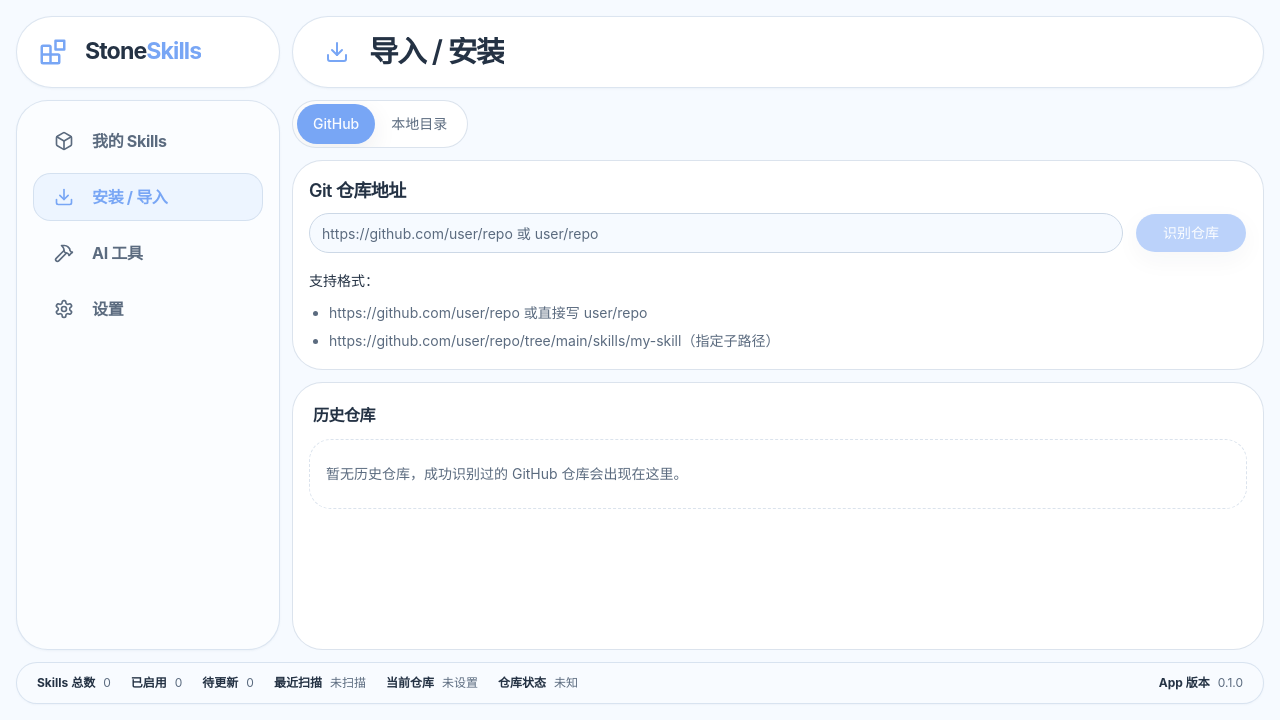
Test: InstallPage › 切换到本地目录时不会渲染 GitHub 结果态组件
Type "https://github.com/example/skills" into the field with placeholder "https://github.com/user/repo 或 user/repo".
click(716, 233); type("https://github.com/example/skills")  # box [309,213,1123,253]
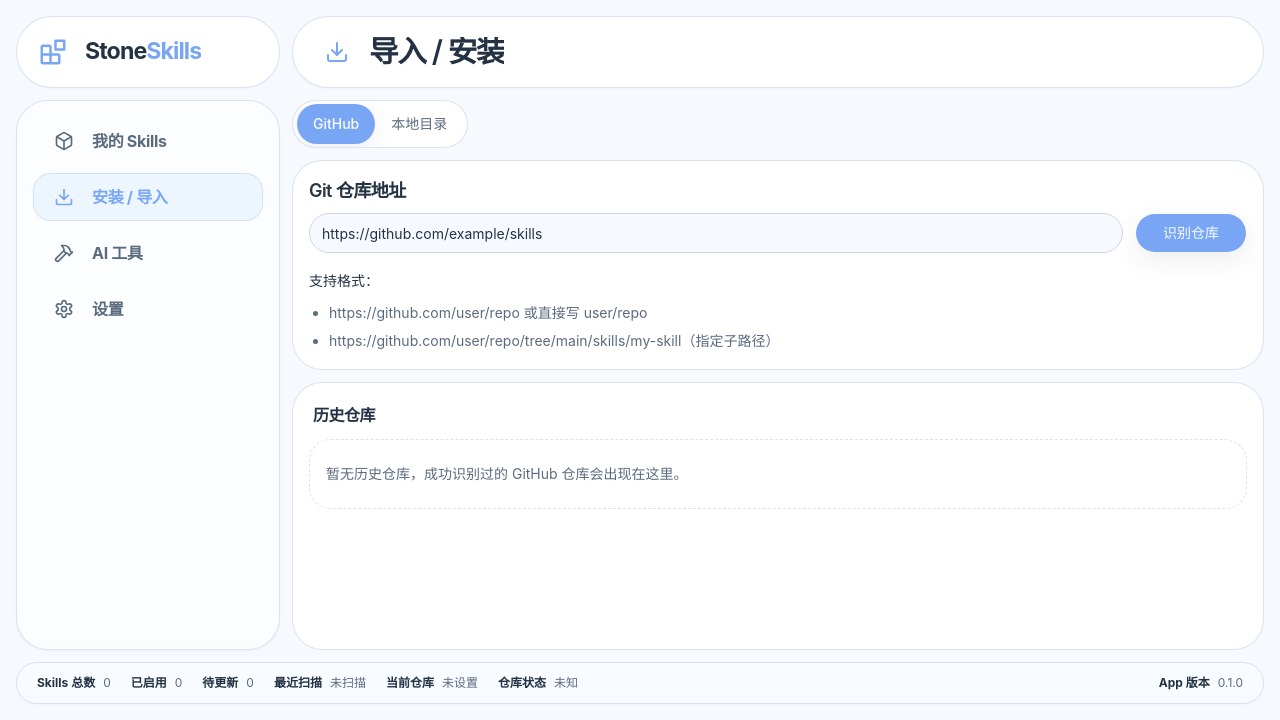
Click the button "识别仓库".
click(1191, 233)  # box [1135,213,1247,253]
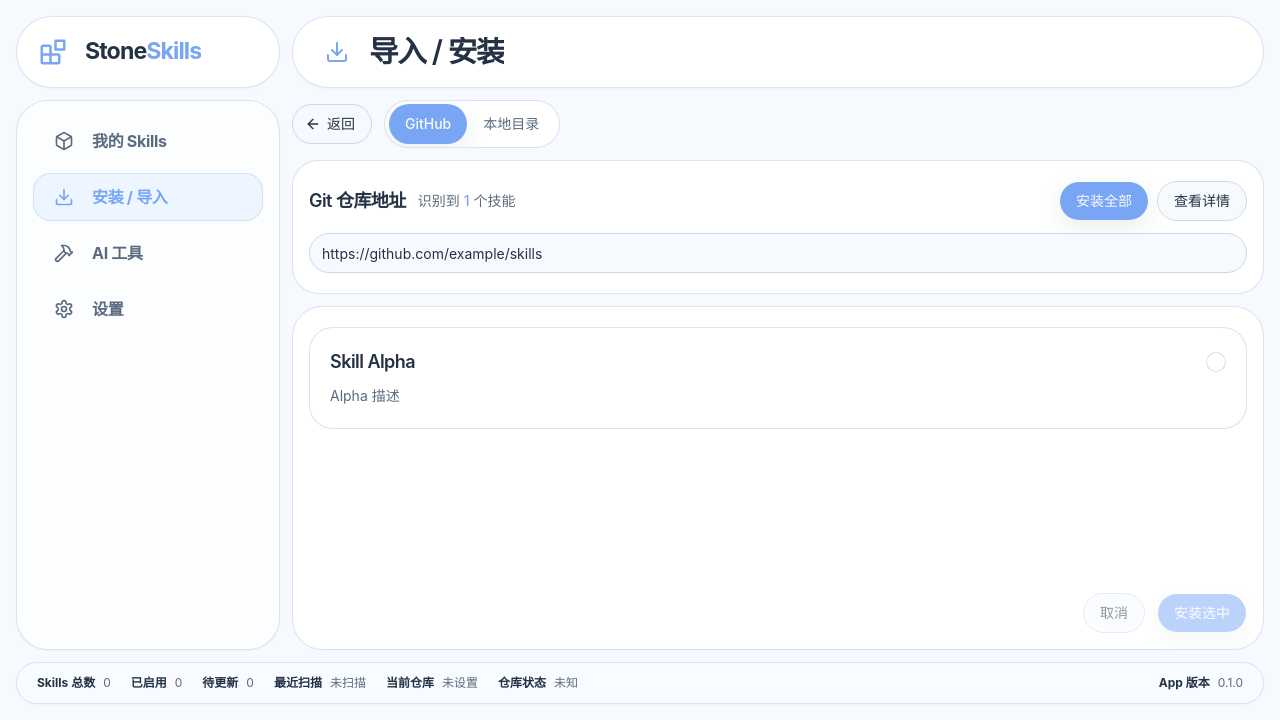
Expected: the heading "Skill Alpha" is shown, [330,348,415,376]
Click the tab "本地目录".
click(511, 124)  # box [467,104,555,144]
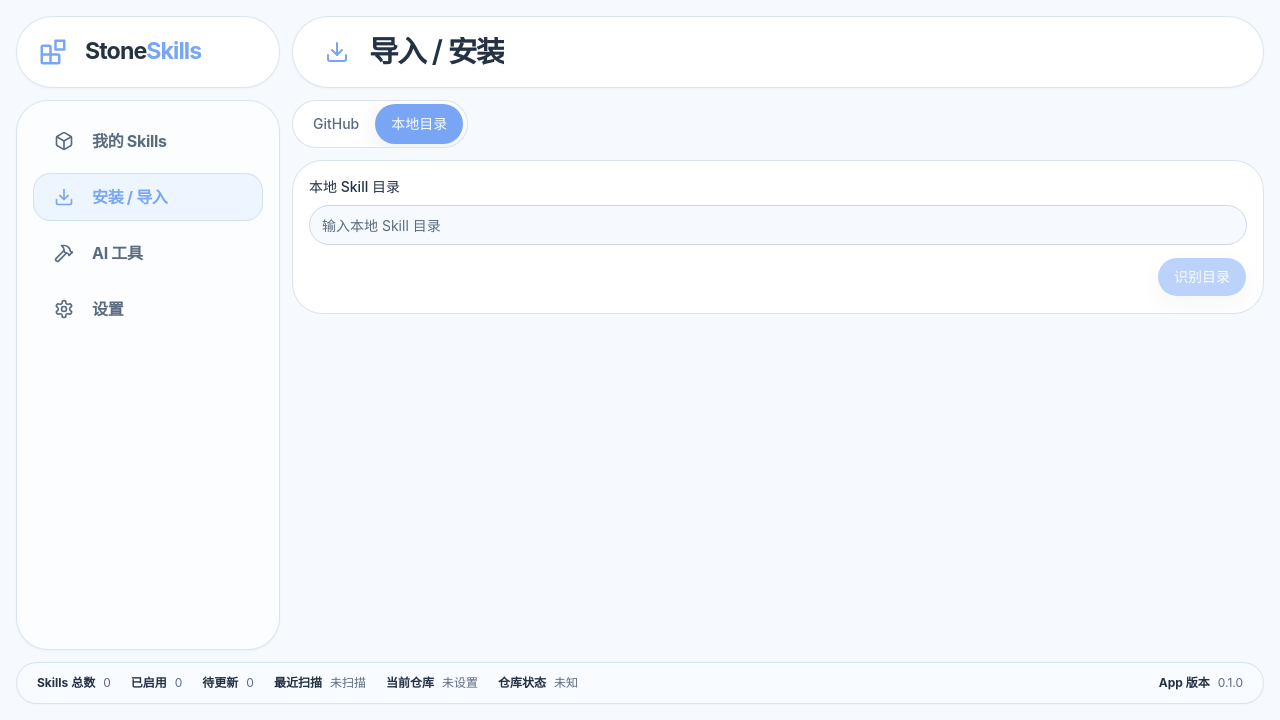
Expected: the button "安装全部" is gone
Expected: the button "Skill Alpha" is gone
Expected: the field with placeholder "输入本地 Skill 目录" is shown, [309,205,1247,245]
